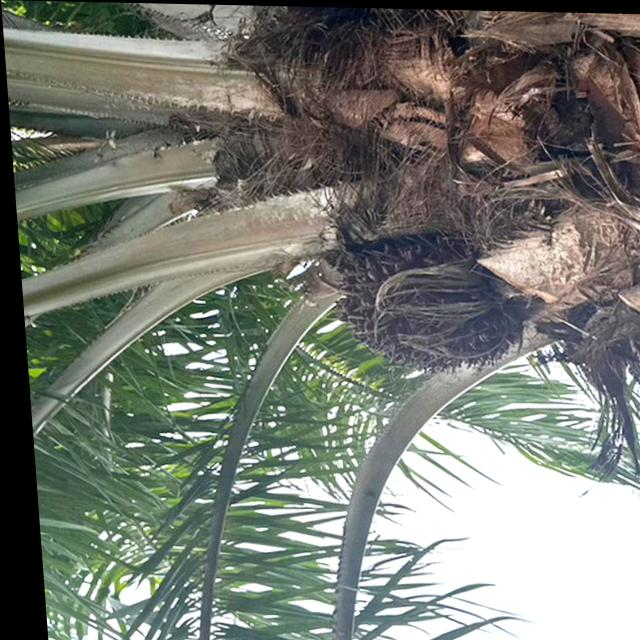ripe: (302, 212, 528, 389)
